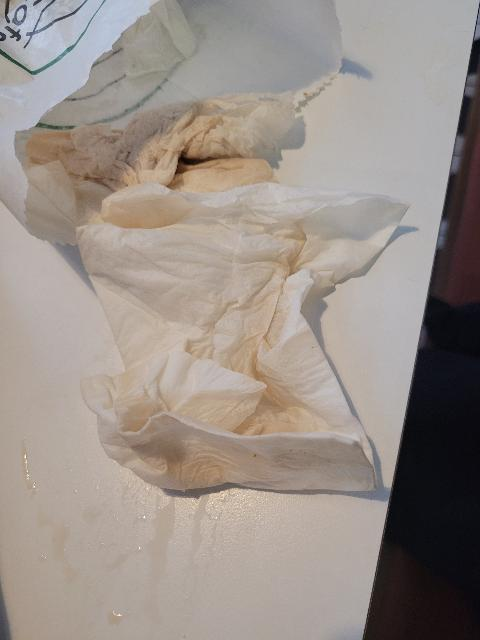Kagit: (76, 186, 413, 494), (0, 0, 344, 241), (31, 95, 313, 226)
